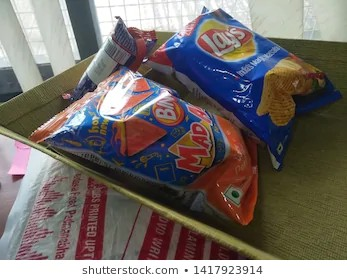lays-small: (152, 5, 336, 170)
